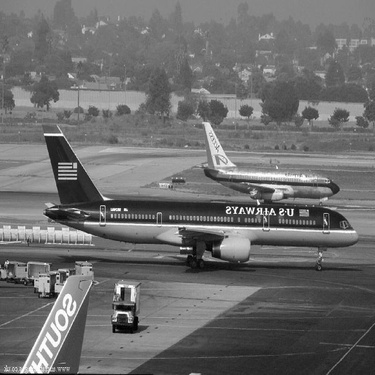airplane: (18, 109, 369, 275), (162, 104, 349, 213)
